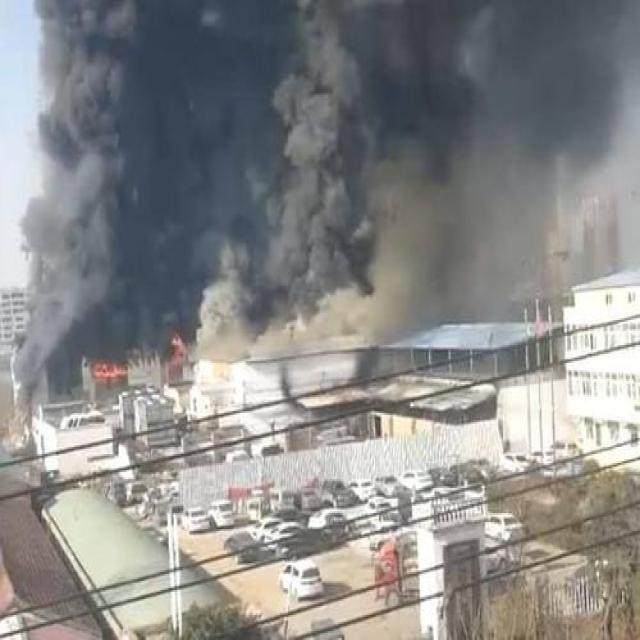Fire: (91, 359, 127, 379)
Smoke: (13, 1, 640, 408)
